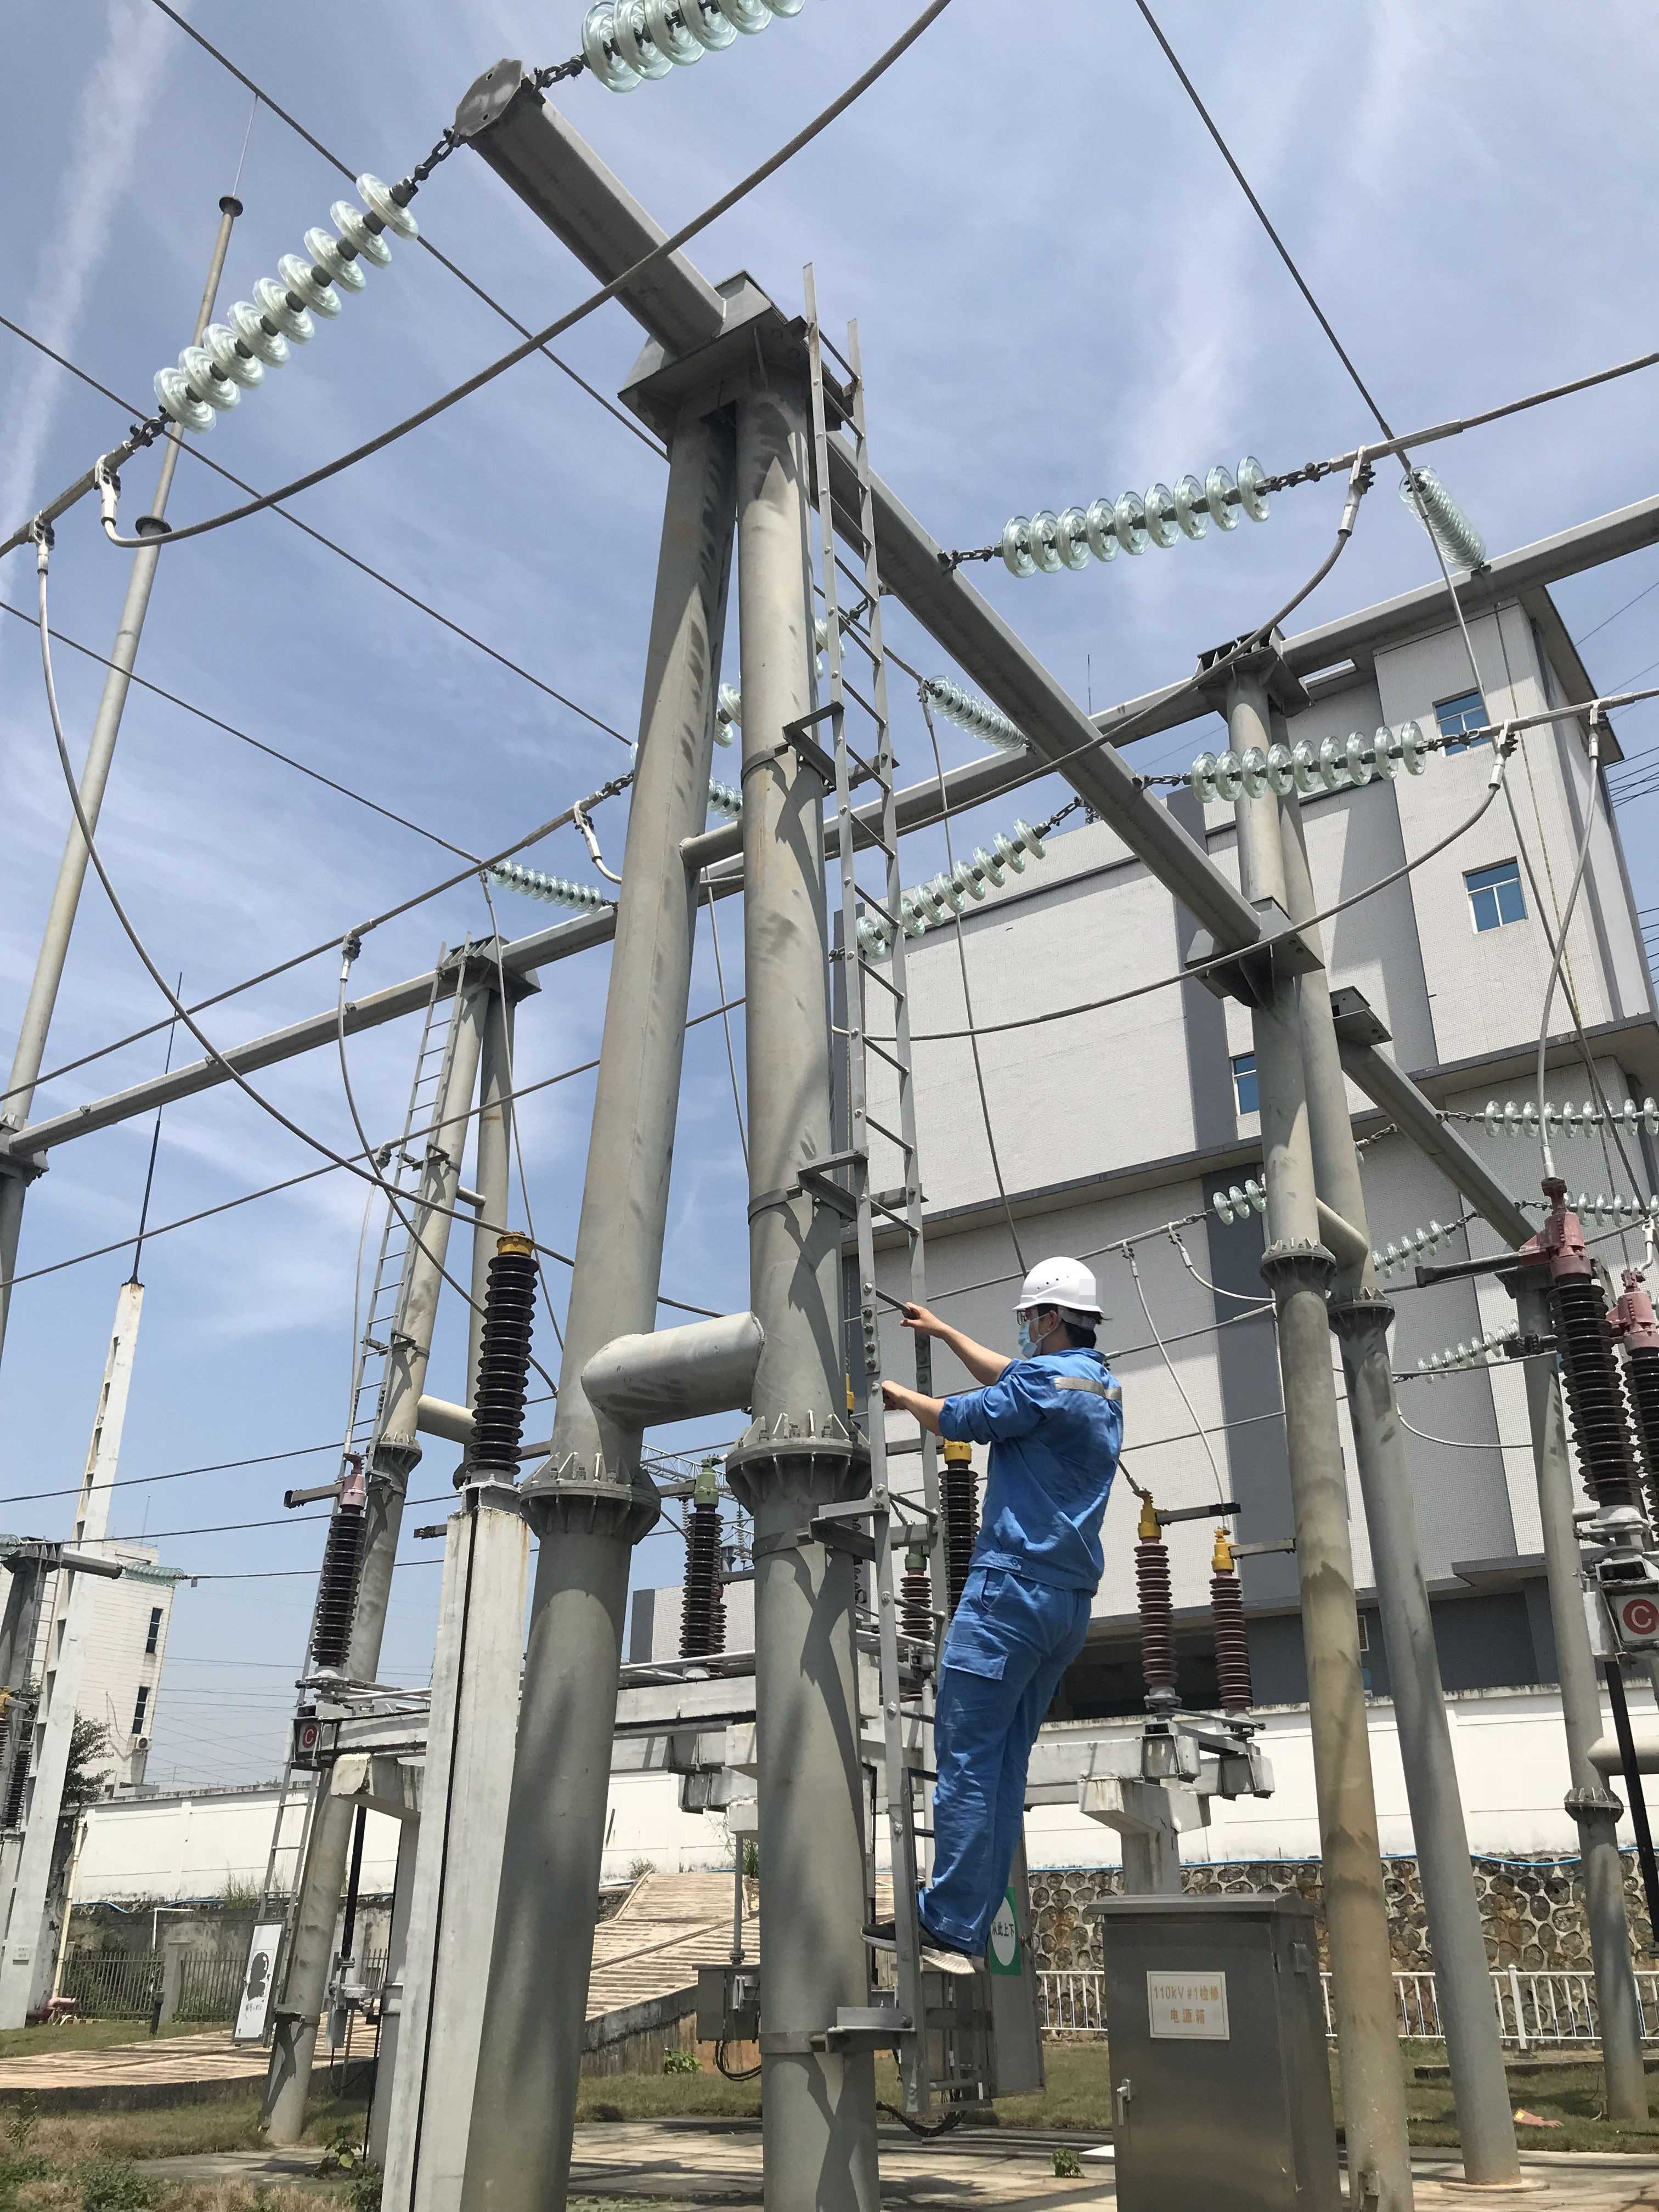downsuit: (910, 1571, 1100, 1951)
upsuit: (938, 1346, 1126, 1590)
wrongtop: (903, 1388, 988, 1447), (941, 1327, 1019, 1388)
